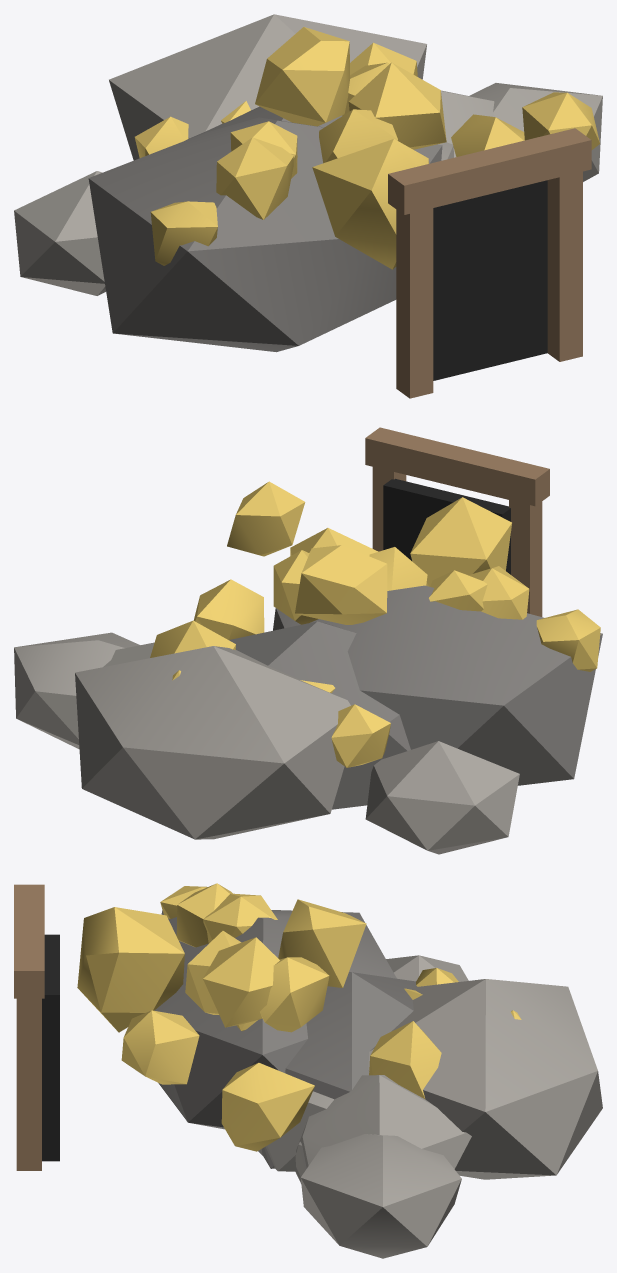
The model's file is gold_mine.glb.
The picture shows the model from 3 angles, top to bottom: view 1: azimuth 30°, elevation 25°; view 2: azimuth 150°, elevation 25°; view 3: azimuth 270°, elevation 25°; orthographic projection. The views are drawn at different scales.
Visible parts, largest first — view 1: body; view 2: body; view 3: body.
Boxes of the visible parts, box(x1,y1,x2,y2) form: body: box(14, 14, 602, 398); body: box(14, 427, 602, 854); body: box(14, 883, 602, 1258).
Size of the model in its own units: 6.02 by 2.83 by 5.78.
